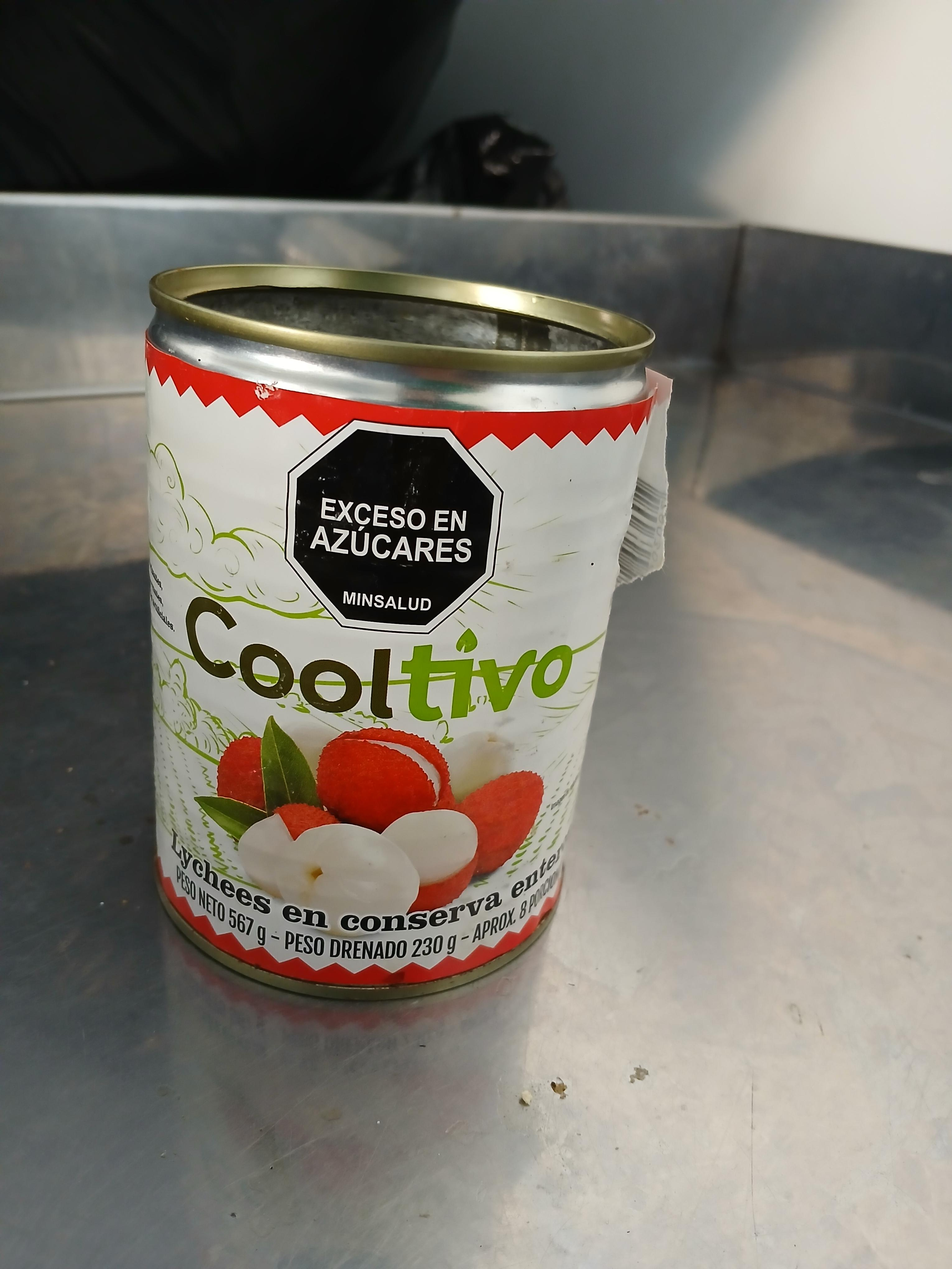Metal: (143, 264, 653, 1007)
